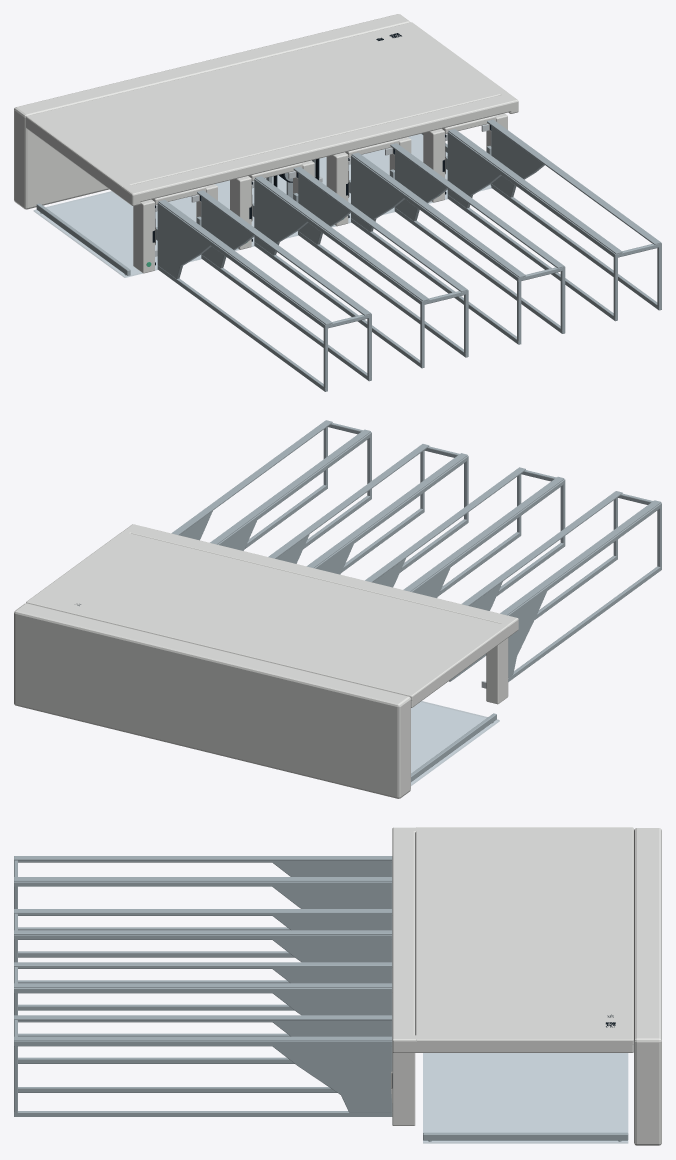
The model's file is Agilent BenchCel 4R.glb.
3 renders of one model, top to bottom at view 1: azimuth 30°, elevation 25°; view 2: azimuth 150°, elevation 25°; view 3: azimuth 270°, elevation 25°, orthographic. The views are drawn at different scales.
Visible parts, largest first — view 1: Horizontal_drive_base, Gripper_crosshead, Safety_shield; view 2: Horizontal_drive_base, Gripper_crosshead, Safety_shield; view 3: Horizontal_drive_base, Gripper_crosshead, Safety_shield.
Part boxes in pixels (left/top/right/bottom): Horizontal_drive_base: left=14, top=14, right=518, bottom=273; Gripper_crosshead: left=36, top=119, right=661, bottom=391; Safety_shield: left=34, top=134, right=491, bottom=277; Horizontal_drive_base: left=14, top=524, right=518, bottom=798; Gripper_crosshead: left=171, top=420, right=661, bottom=781; Safety_shield: left=411, top=701, right=499, bottom=785; Horizontal_drive_base: left=391, top=827, right=661, bottom=1145; Gripper_crosshead: left=14, top=856, right=628, bottom=1140; Safety_shield: left=423, top=1053, right=627, bottom=1143.
Bounding box in the file's own units: 0.864 × 0.203 × 1.11.
